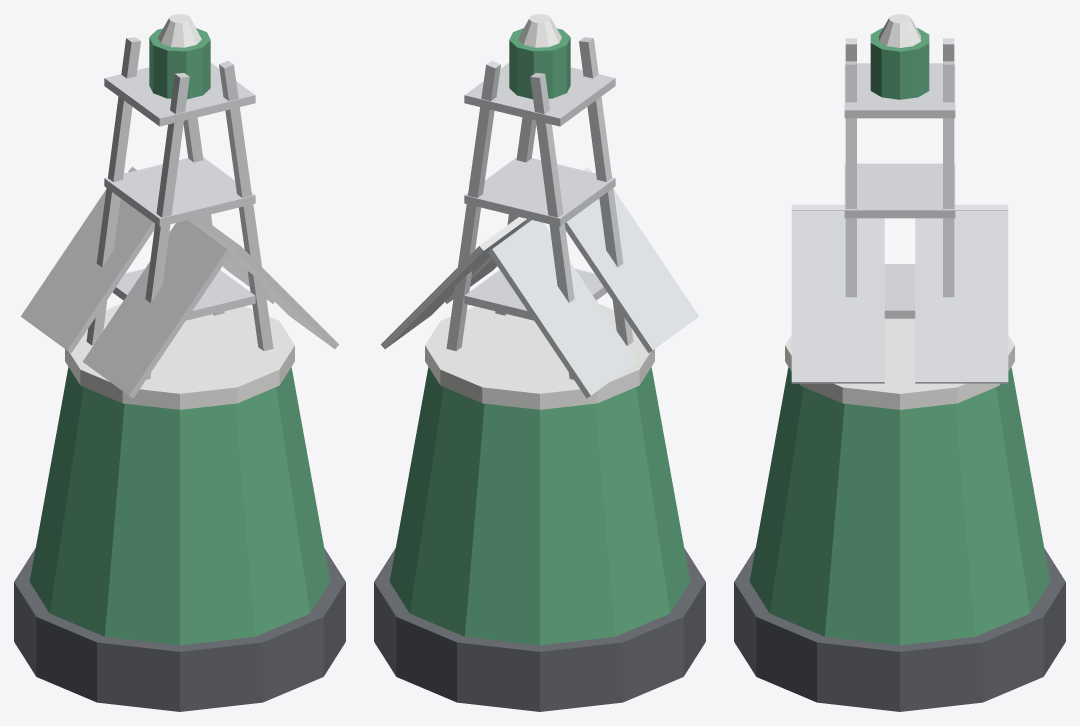
Rendered from buoy.glb.
The picture shows the model from 3 angles, left to right: view 1: azimuth 30°, elevation 25°; view 2: azimuth 150°, elevation 25°; view 3: azimuth 270°, elevation 25°; orthographic projection.
Parts seen in each view (by area): view 1: marina-and-yacht-club-fairway-buoy; view 2: marina-and-yacht-club-fairway-buoy; view 3: marina-and-yacht-club-fairway-buoy.
Boxes of the visible parts, x1,y1,x2,y2 form: marina-and-yacht-club-fairway-buoy: (14, 14, 345, 711); marina-and-yacht-club-fairway-buoy: (374, 14, 705, 711); marina-and-yacht-club-fairway-buoy: (734, 14, 1065, 711).
Bounding box in the file's own units: 1.5 × 3.11 × 1.5.
